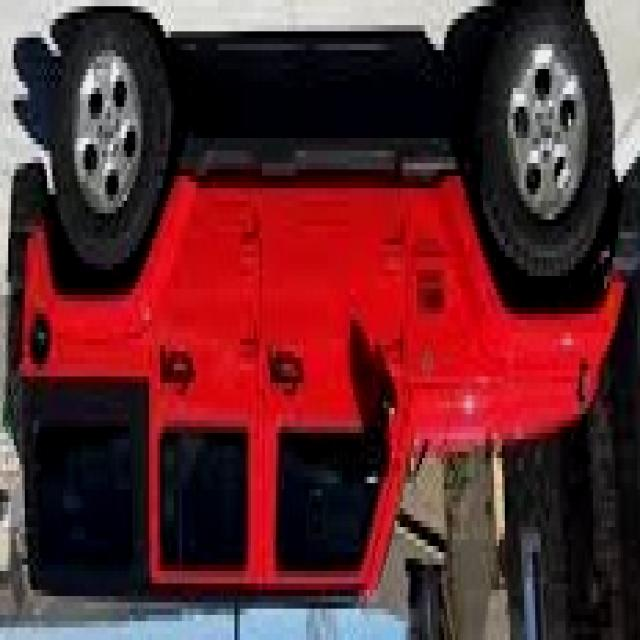red: (15, 38, 630, 606)
